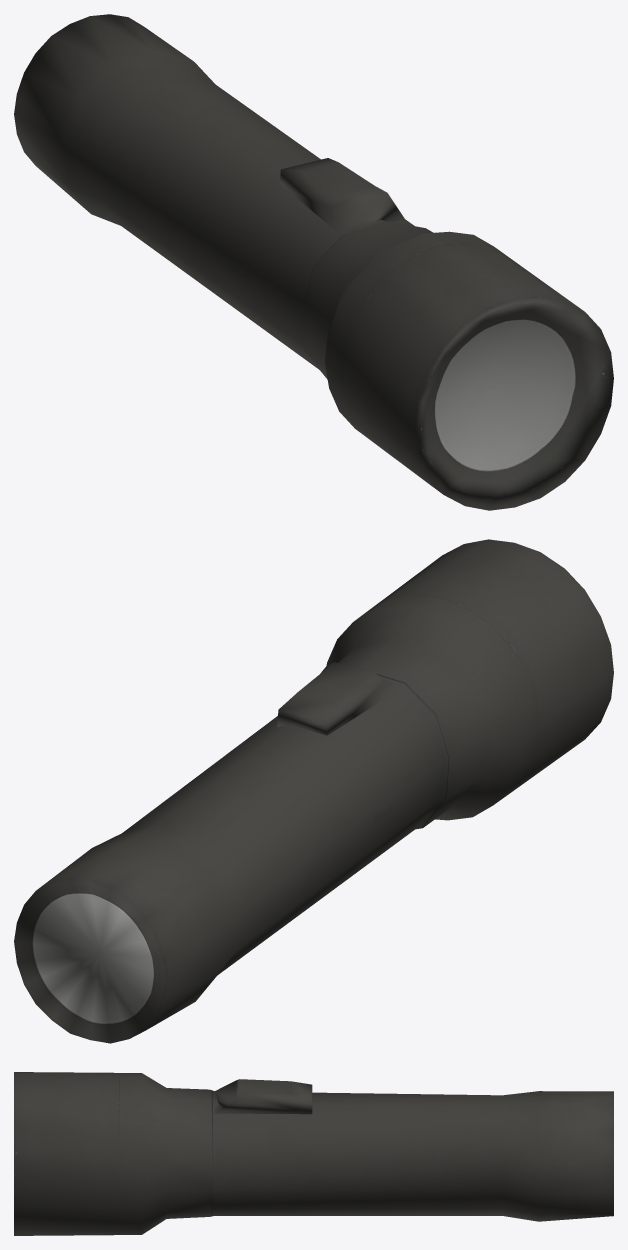
Rendered from Flashlight.fbx.
3 renders of one model, top to bottom at view 1: azimuth 30°, elevation 25°; view 2: azimuth 150°, elevation 25°; view 3: azimuth 270°, elevation 25°, orthographic. The views are drawn at different scales.
Parts seen in each view (by area): view 1: tripo_node_c751fc70-534f-49c4-bdbc-9521e4c9dae6; view 2: tripo_node_c751fc70-534f-49c4-bdbc-9521e4c9dae6; view 3: tripo_node_c751fc70-534f-49c4-bdbc-9521e4c9dae6.
Part boxes in pixels (x1,y1,x2,y2): tripo_node_c751fc70-534f-49c4-bdbc-9521e4c9dae6: (14,14,613,510); tripo_node_c751fc70-534f-49c4-bdbc-9521e4c9dae6: (14,539,613,1043); tripo_node_c751fc70-534f-49c4-bdbc-9521e4c9dae6: (14,1072,613,1235).
Bounding box in the file's own units: 27.15 × 27.15 × 99.8.
Materials: 1 (1 with a texture image).
